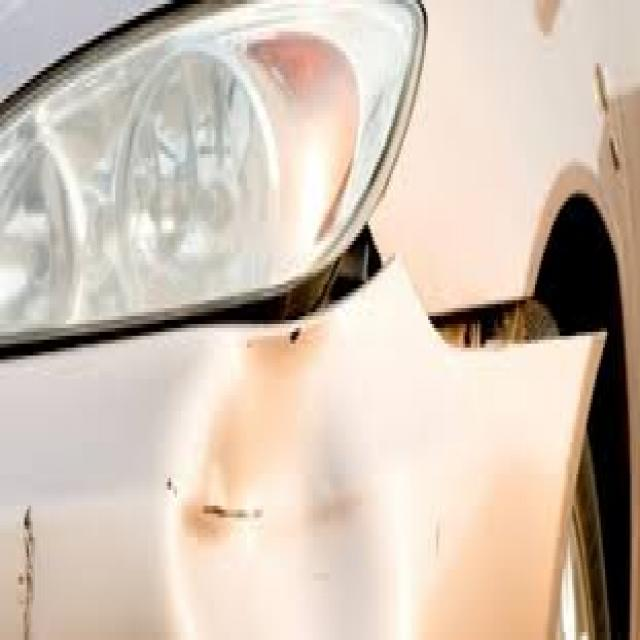minor: (195, 150, 622, 448)
